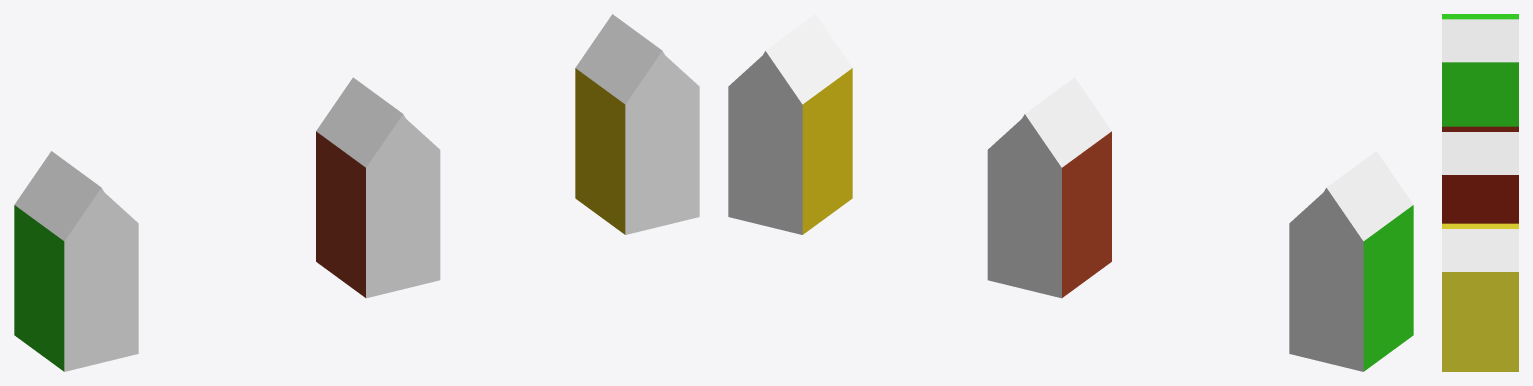
The model's file is MilkCartons1.fbx.
3 views of the same model, side by side, from view 1: azimuth 30°, elevation 25°; view 2: azimuth 150°, elevation 25°; view 3: azimuth 270°, elevation 25° (orthographic). The views are drawn at different scales.
Visible parts, largest first — view 1: Carton1, Carton3, Carton2; view 2: Carton1, Carton3, Carton2; view 3: Carton1, Carton3, Carton2.
Part boxes in pixels (bbox=[...]): Carton1: bbox=[575, 14, 699, 234]; Carton3: bbox=[14, 151, 138, 371]; Carton2: bbox=[316, 77, 440, 298]; Carton1: bbox=[728, 14, 852, 234]; Carton3: bbox=[1289, 151, 1413, 371]; Carton2: bbox=[987, 77, 1111, 298]; Carton1: bbox=[1442, 223, 1518, 371]; Carton3: bbox=[1442, 14, 1518, 126]; Carton2: bbox=[1442, 126, 1518, 223].
Size of the model in its own units: 2.37 by 0.6252 by 0.3235.
3 materials, 3 textured.
